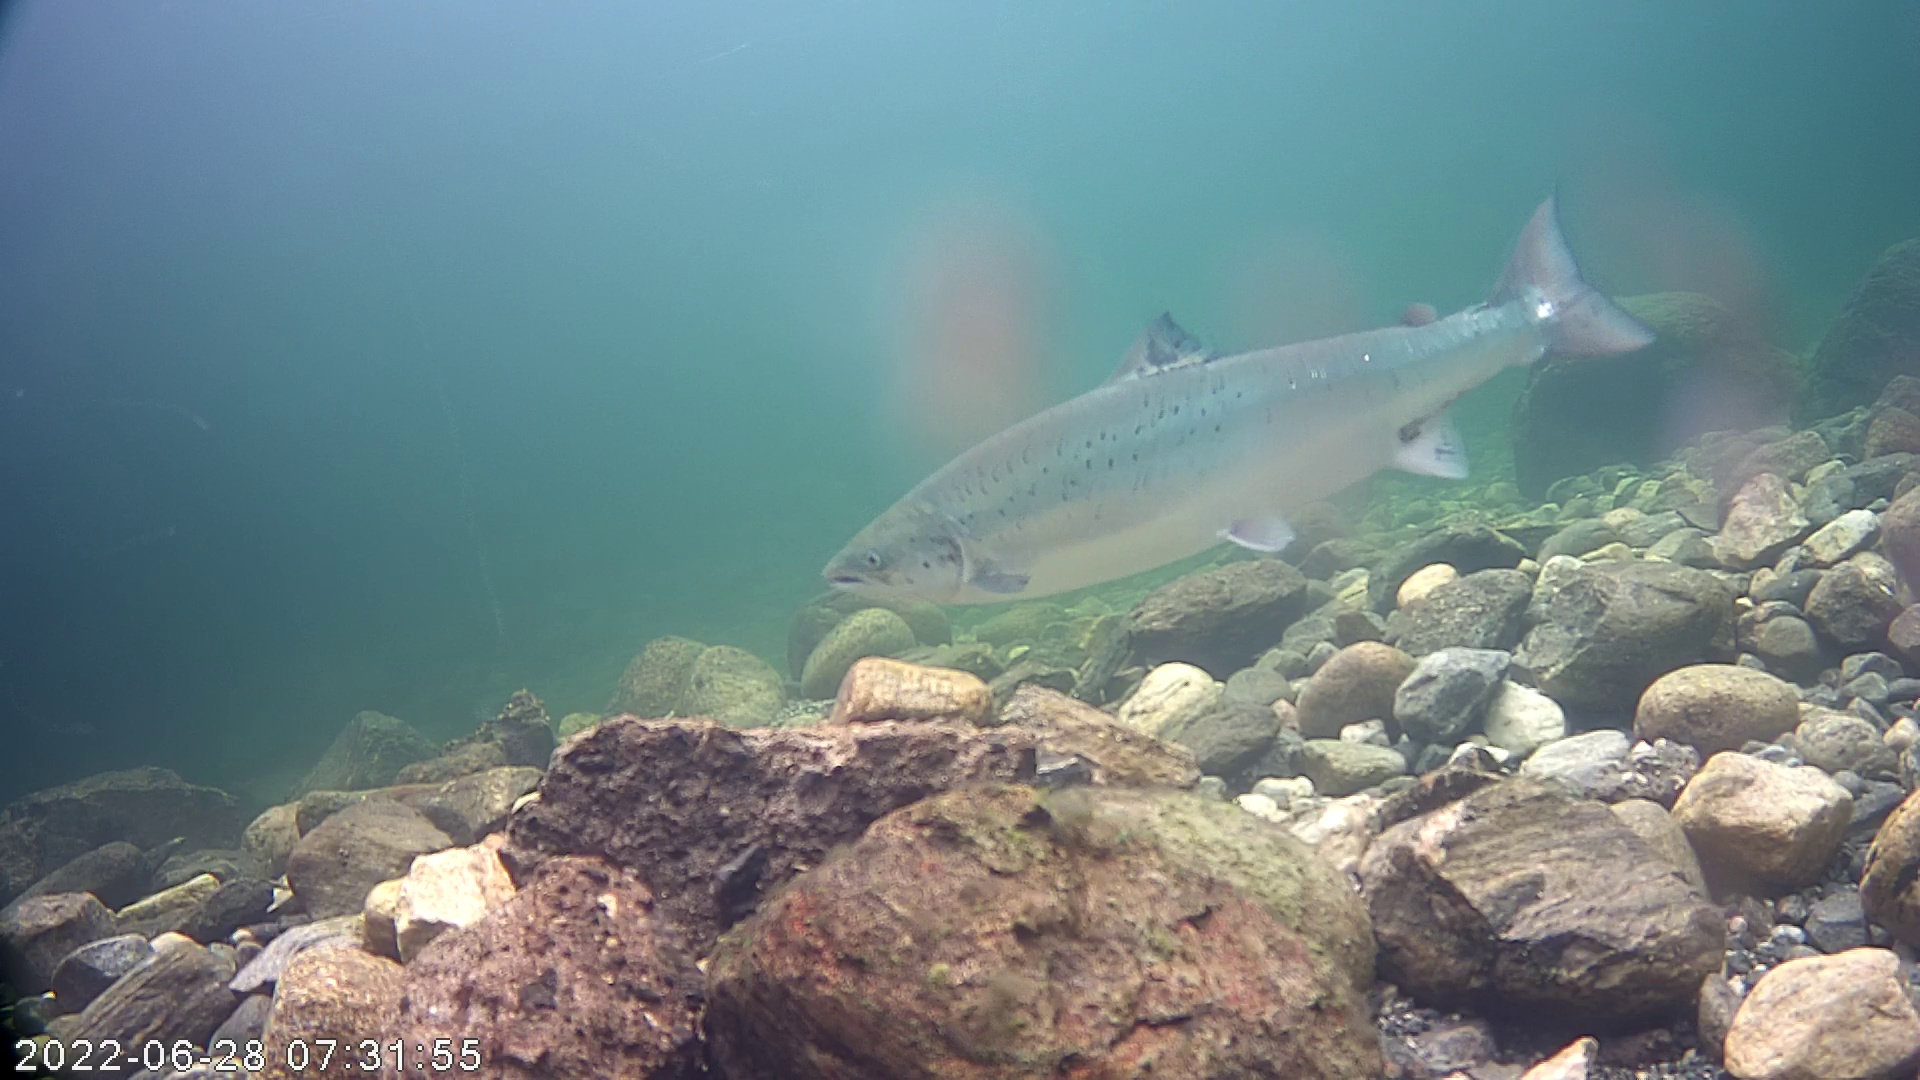salmon: (816, 160, 1685, 640)
